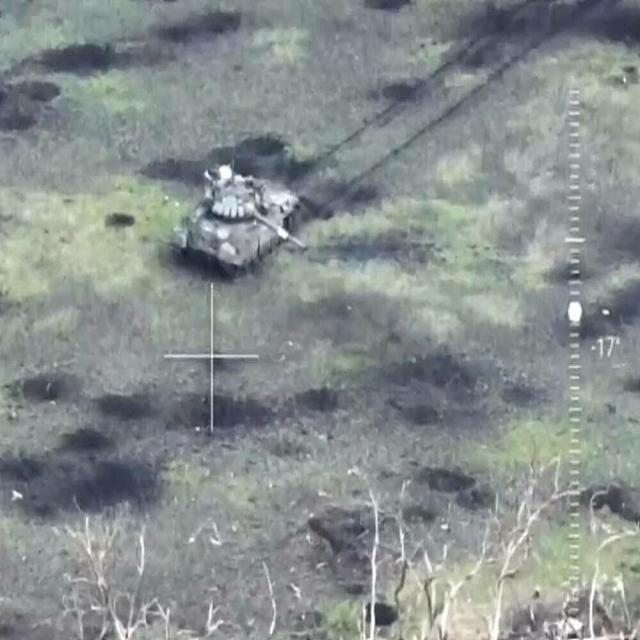tank: (172, 164, 302, 272)
